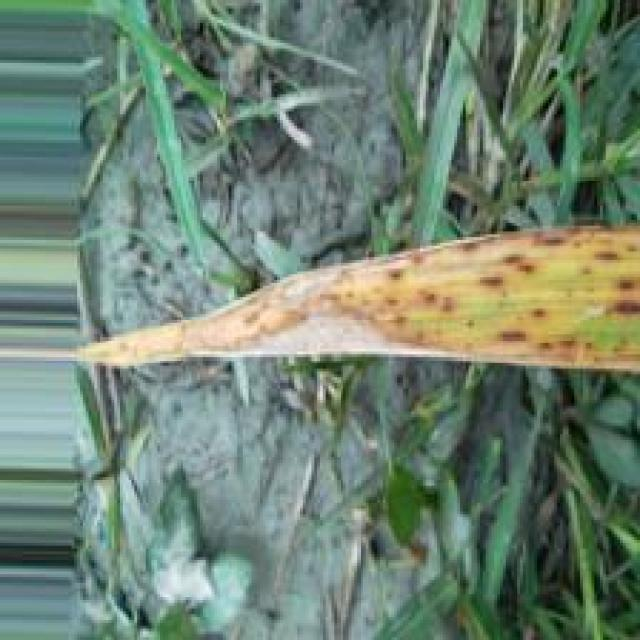Narrow_Brown_Leaf_Spot: (69, 222, 640, 380)
